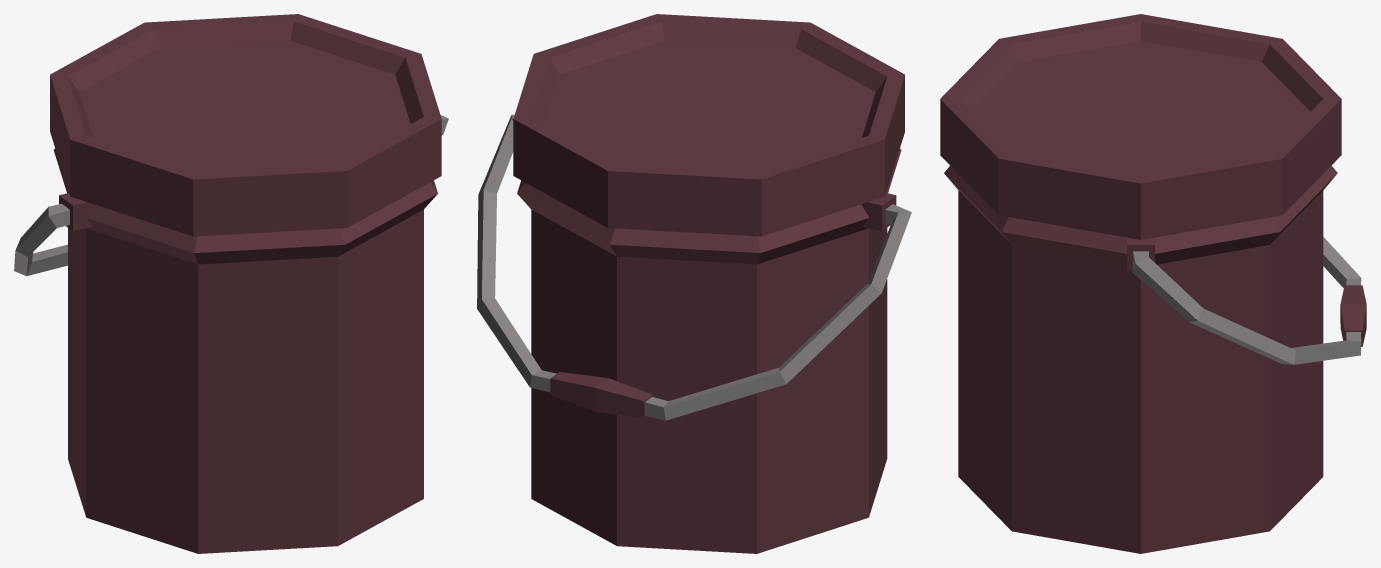
File: bucket-paint-large.fbx
3 views of the same model, side by side, from view 1: azimuth 30°, elevation 25°; view 2: azimuth 150°, elevation 25°; view 3: azimuth 270°, elevation 25° (orthographic).
Visible parts, largest first — view 1: bucket-paint-large; view 2: bucket-paint-large; view 3: bucket-paint-large.
Part boxes in pixels (box(x1,y1,x2,y2)): bucket-paint-large: box(14, 14, 448, 553); bucket-paint-large: box(477, 14, 911, 553); bucket-paint-large: box(940, 14, 1366, 553).
Bounding box in the file's own units: 0.4427 × 0.4004 × 0.4095.
